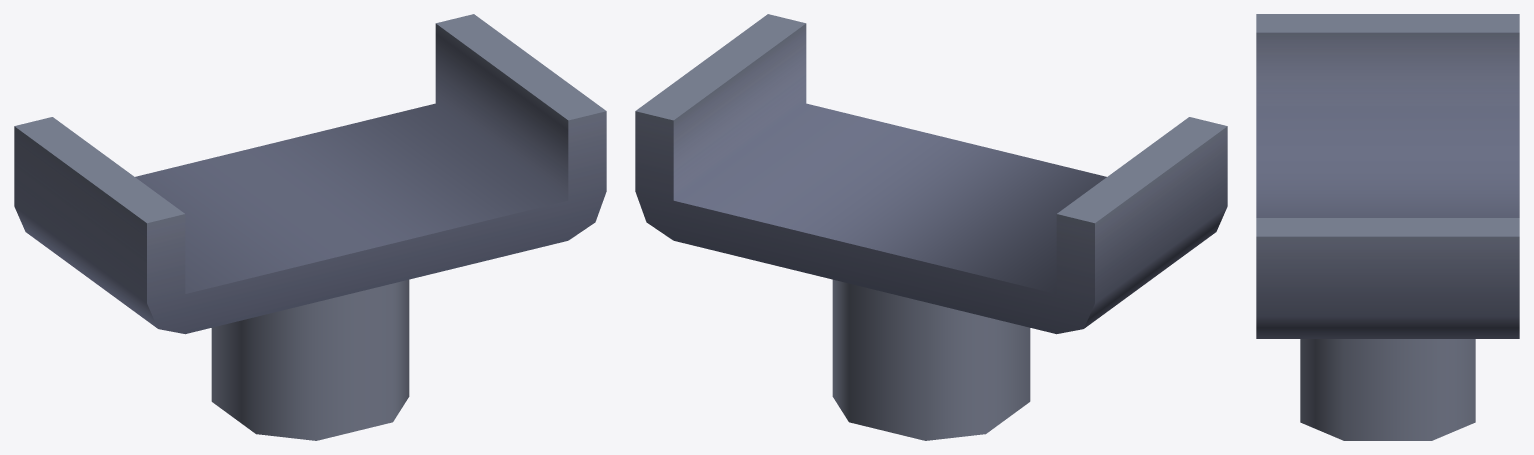
Rendered from kenney-marble-support-single-top.glb.
The picture shows the model from 3 angles, left to right: view 1: azimuth 30°, elevation 25°; view 2: azimuth 150°, elevation 25°; view 3: azimuth 270°, elevation 25°; orthographic projection.
Visible parts, largest first — view 1: support-single-top; view 2: support-single-top; view 3: support-single-top.
Boxes of the visible parts, left/top/right/bottom form: support-single-top: left=14, top=14, right=606, bottom=440; support-single-top: left=635, top=14, right=1227, bottom=440; support-single-top: left=1256, top=14, right=1519, bottom=440.
Bounding box in the file's own units: 1.2 × 0.7 × 0.6001.
Materials: 1 (1 with a texture image).
